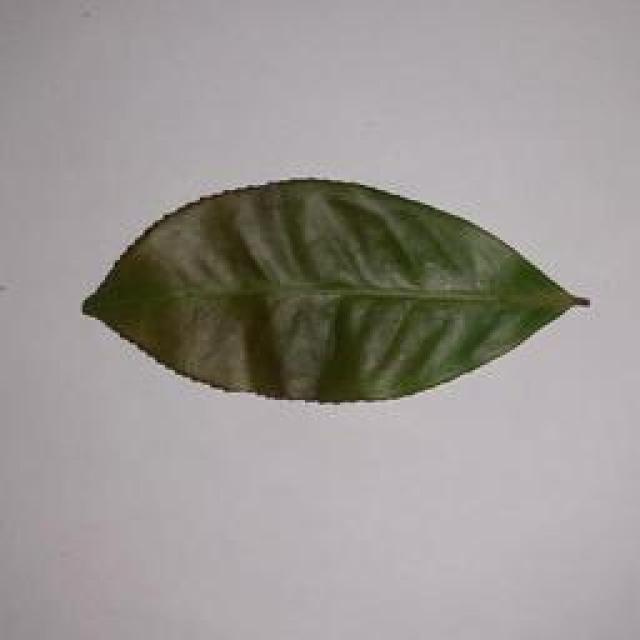Red Leaf Spot: (75, 195, 596, 405)
